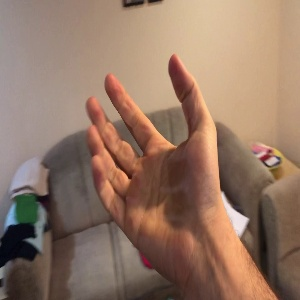hand: (85, 54, 226, 261)
